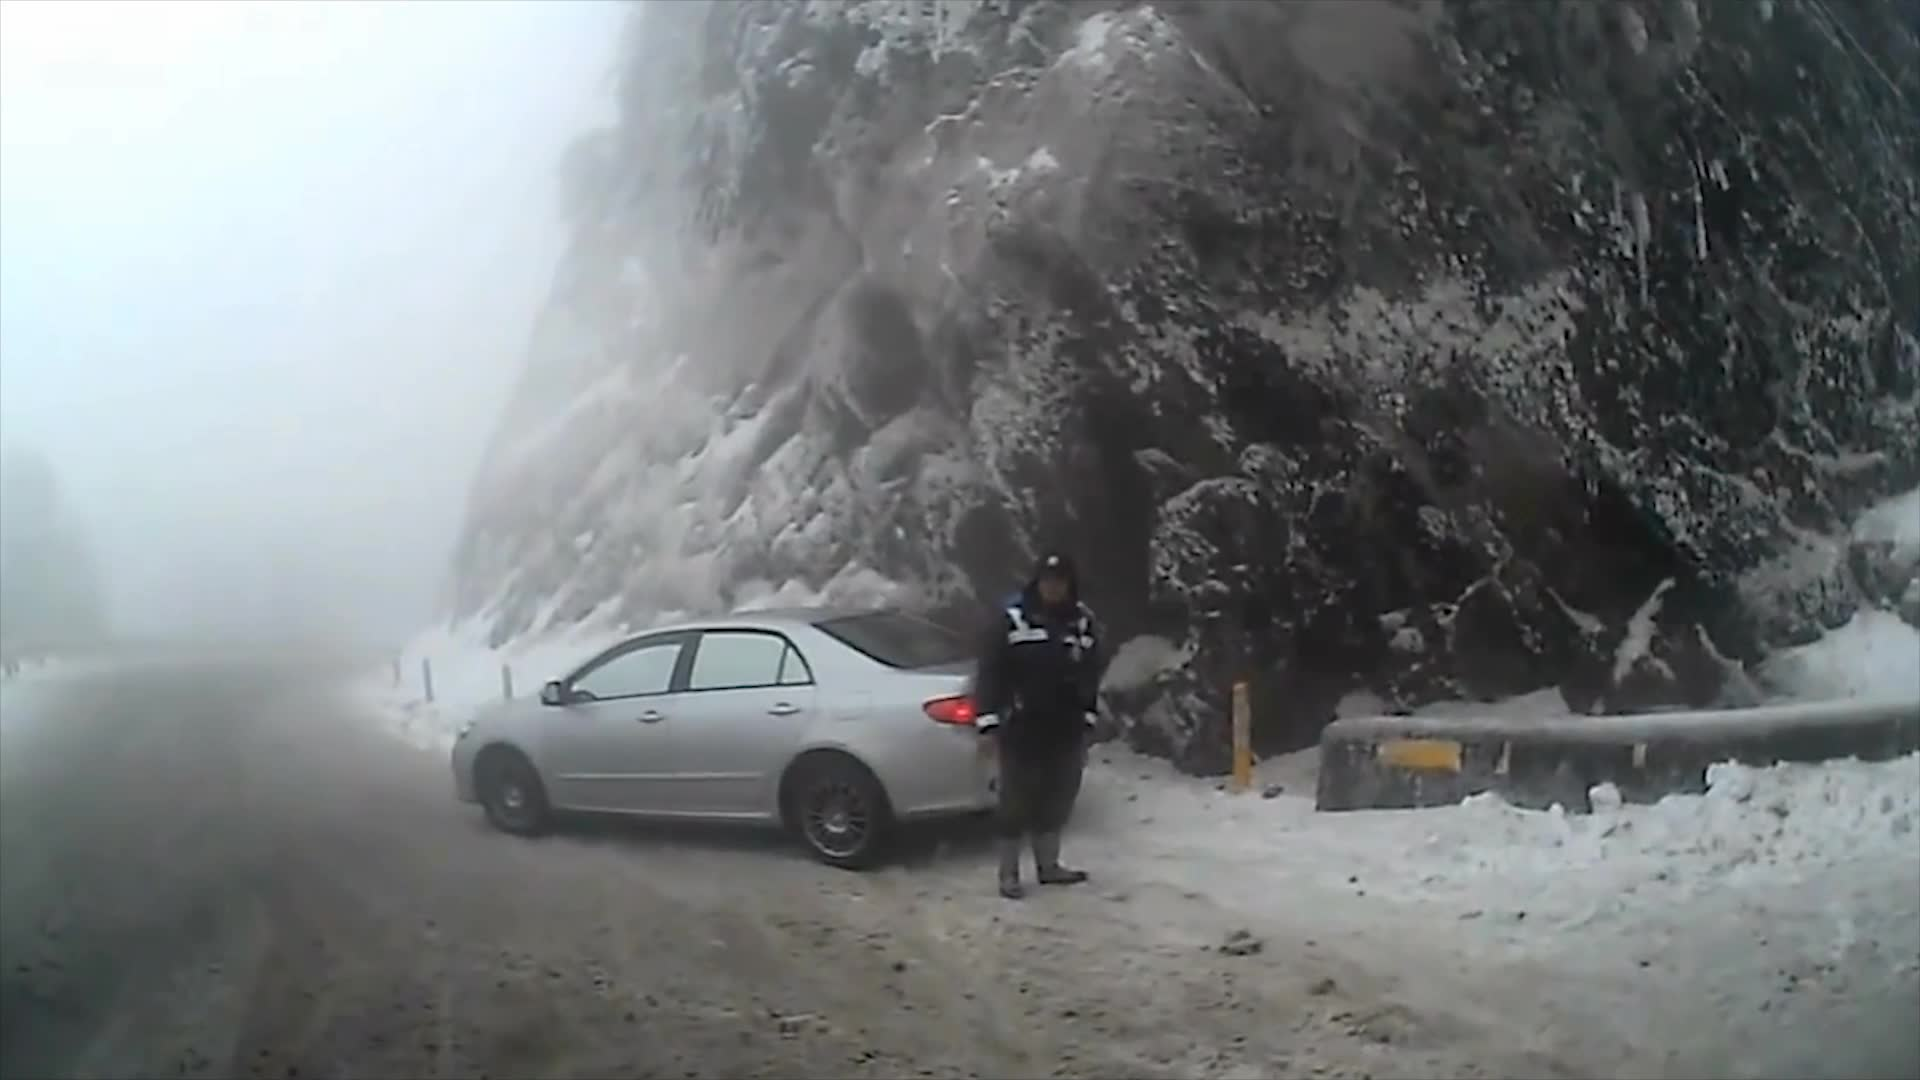pedestrian: (986, 570, 1115, 914)
vehicle: (446, 602, 1083, 868)
